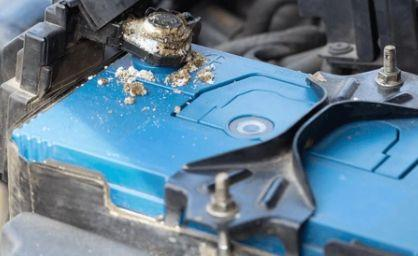battery: (15, 26, 418, 256)
